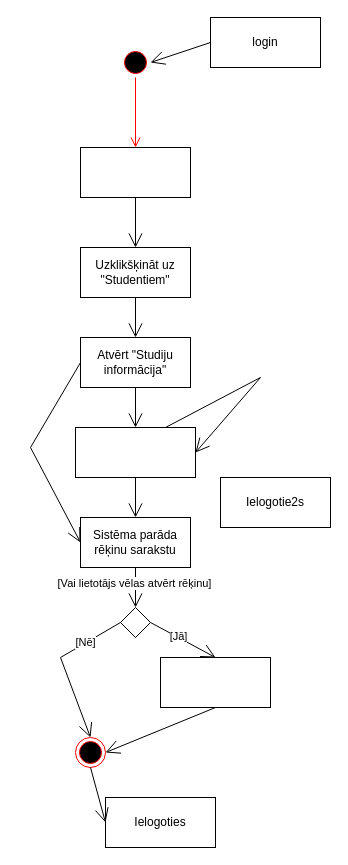
This 348x865 diagram has some shape labels left out. Here are the shapes that lost their labels. From the top down, the centre of each, then its label:
point 135,172: Atvērt sākumlapu
point 135,452: Izvēlēties "Rēķini un maksājumi"
point 215,682: Atvērts rēķins
